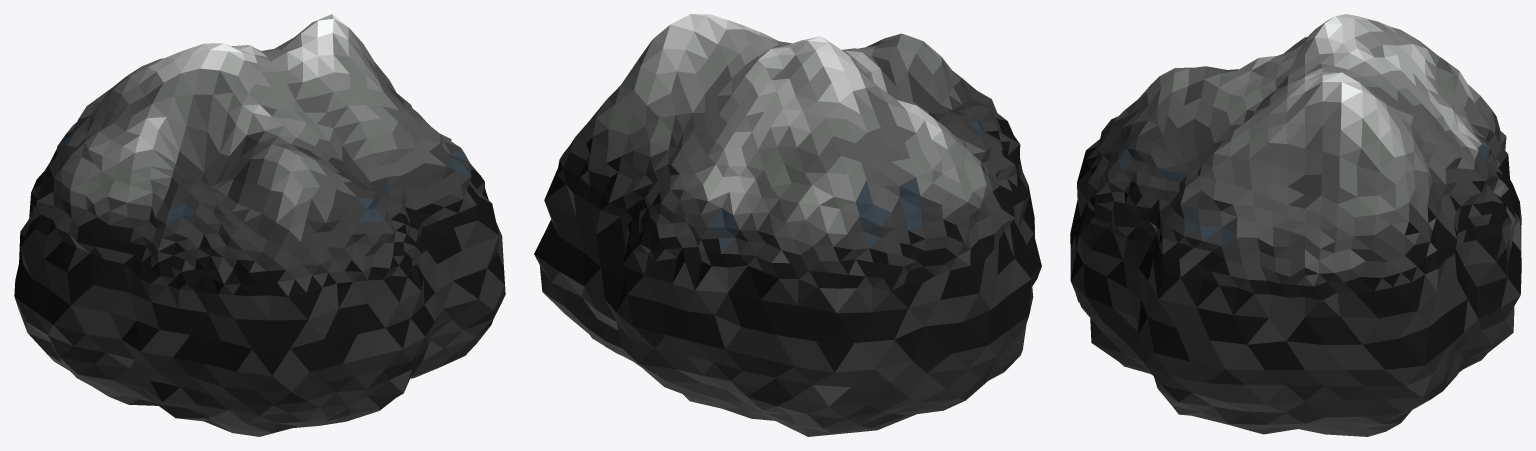
File: newshd-5.glb
3 views of the same model, side by side, from view 1: azimuth 30°, elevation 25°; view 2: azimuth 150°, elevation 25°; view 3: azimuth 270°, elevation 25° (orthographic). The views are drawn at different scales.
Parts seen in each view (by area): view 1: newshd-5; view 2: newshd-5; view 3: newshd-5.
Boxes of the visible parts, left/top/right/bottom form: newshd-5: left=14, top=14, right=505, bottom=436; newshd-5: left=534, top=14, right=1041, bottom=436; newshd-5: left=1070, top=14, right=1521, bottom=436.
Size of the model in its own units: 1.84 by 1.45 by 1.67.
